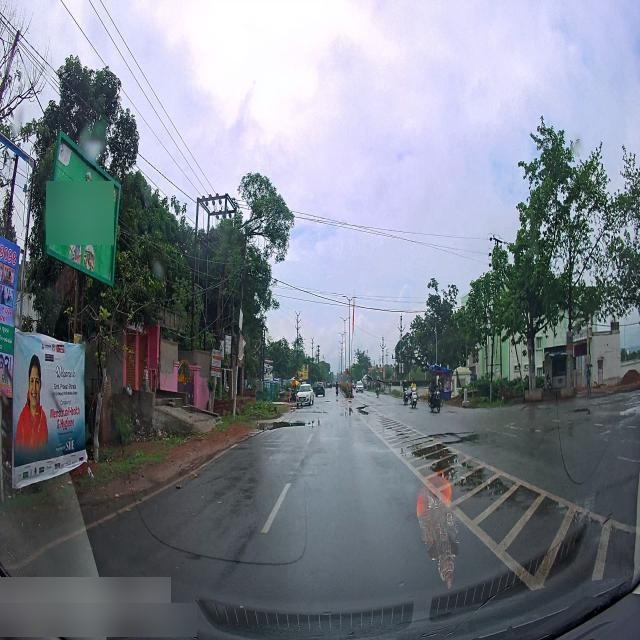pothole: (411, 434, 482, 474), (270, 415, 319, 431), (344, 400, 368, 418)
